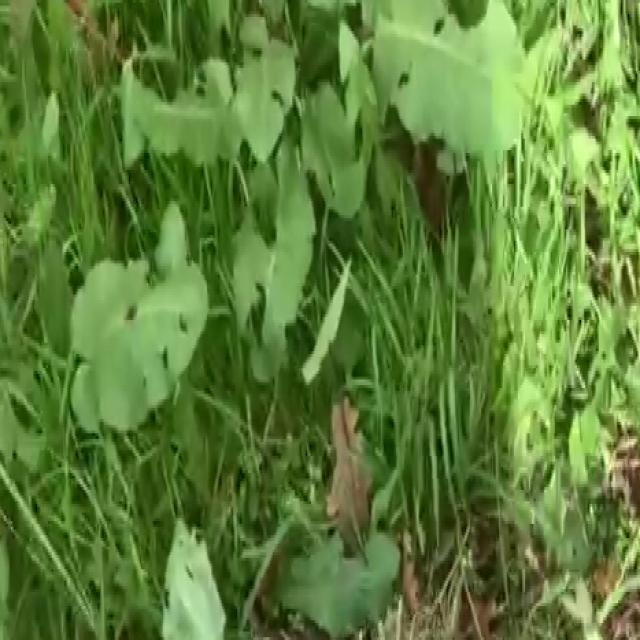organic waste: (70, 0, 545, 357), (101, 399, 421, 640), (36, 252, 258, 453)
